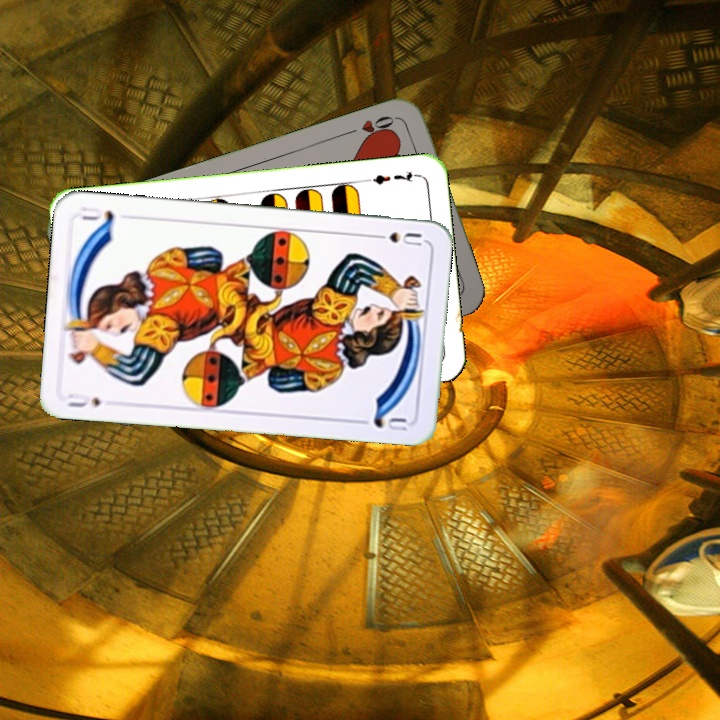E7: (362, 166, 421, 187)
HO: (343, 111, 401, 144)
SU: (367, 228, 424, 249), (63, 389, 104, 411)
